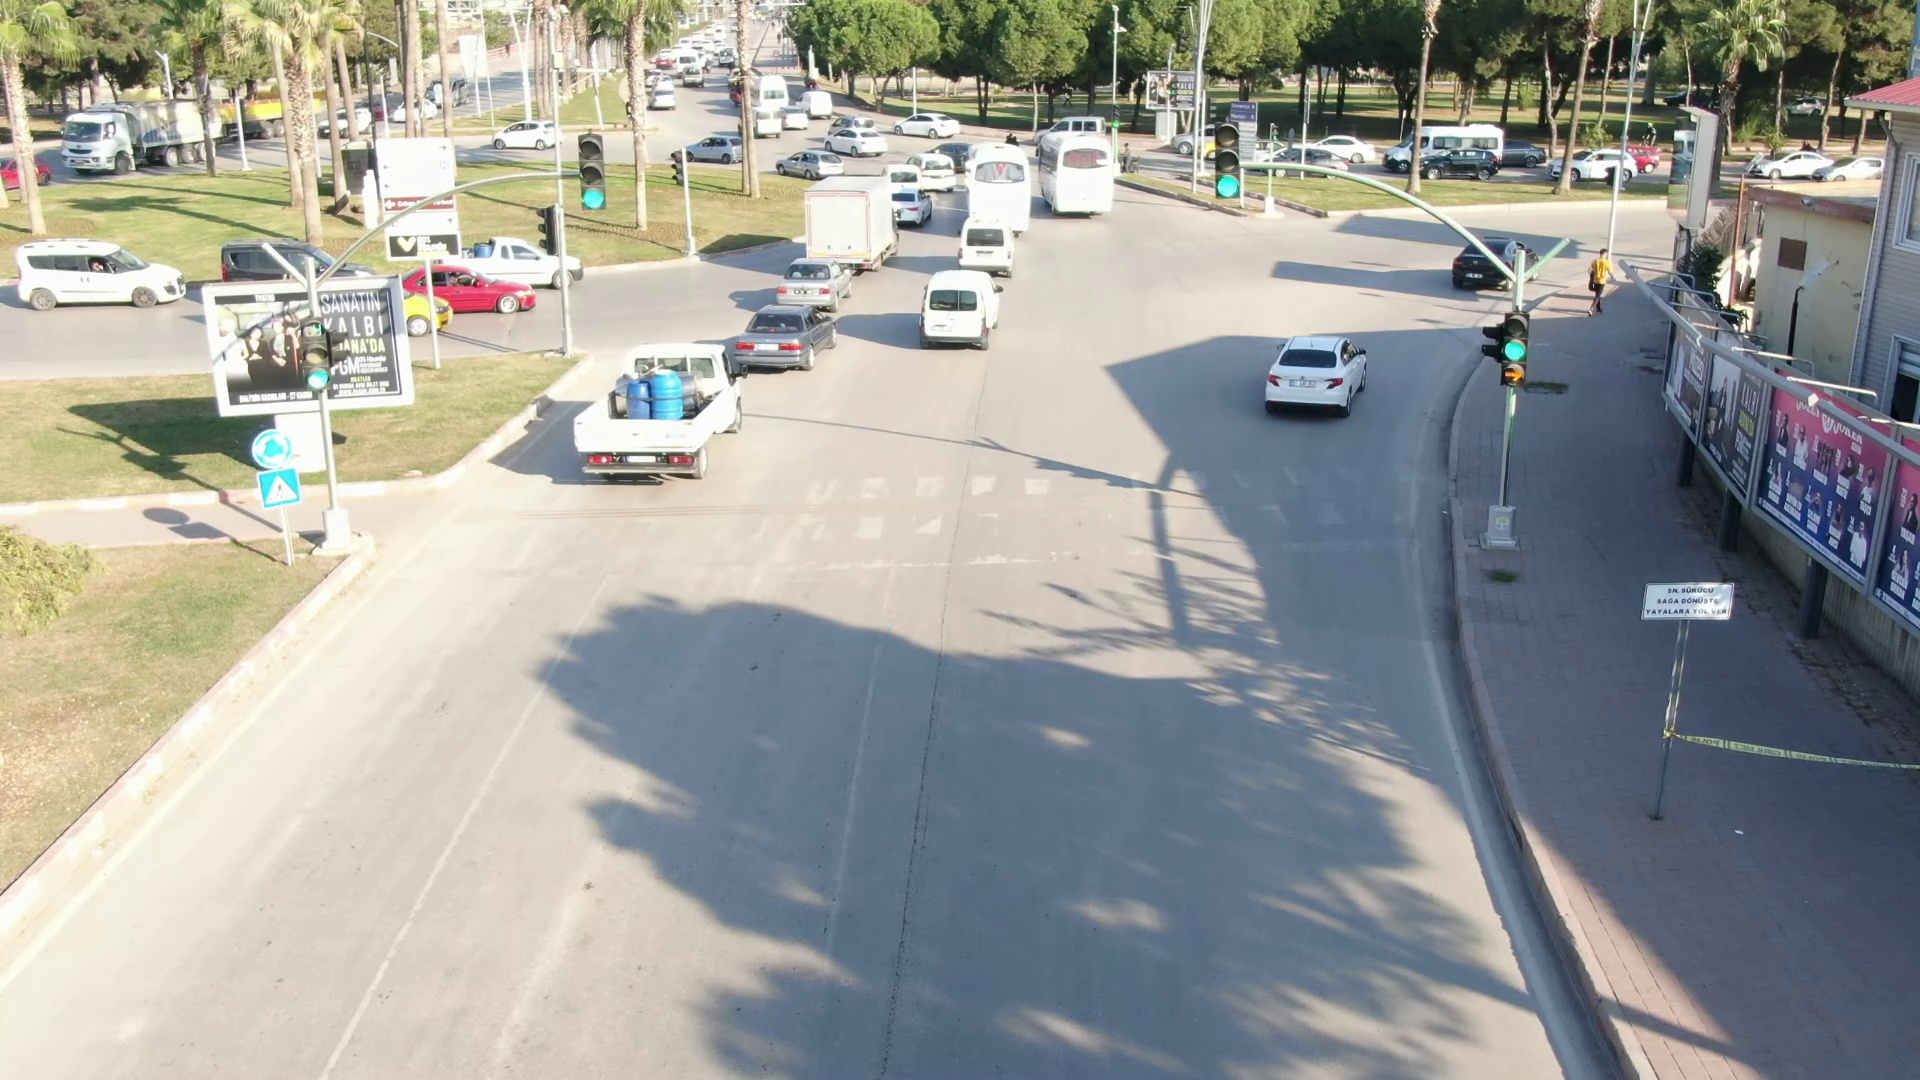car: (553, 345, 743, 496), (7, 222, 194, 335), (1236, 310, 1388, 437), (1031, 124, 1135, 223), (729, 301, 845, 380), (910, 266, 1006, 360), (943, 212, 1031, 274), (765, 250, 855, 310), (1418, 138, 1507, 194), (485, 110, 573, 162), (769, 144, 848, 184), (889, 103, 963, 146)
person: (1579, 240, 1619, 328)
